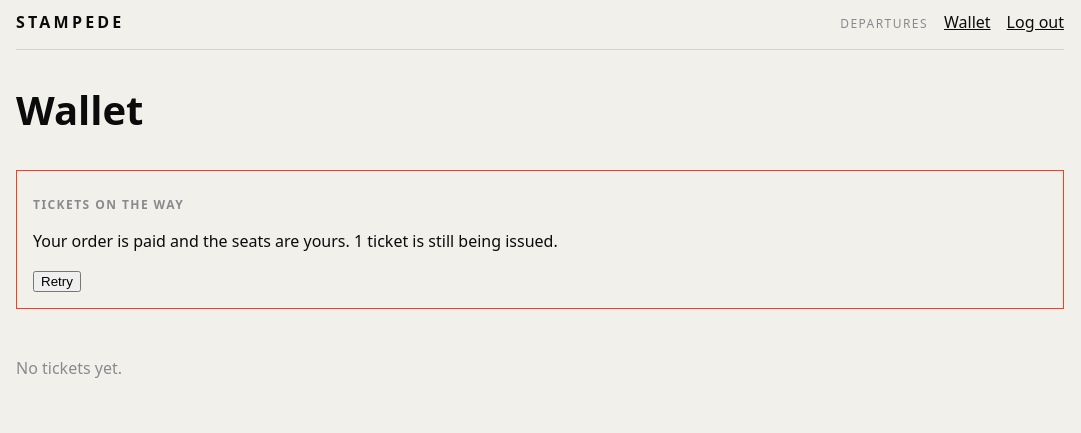
Test: WalletPage › a failed Retry shows why and keeps the banner
Step 1. Click the button "Retry" → (57, 281), box [33,270,81,292]
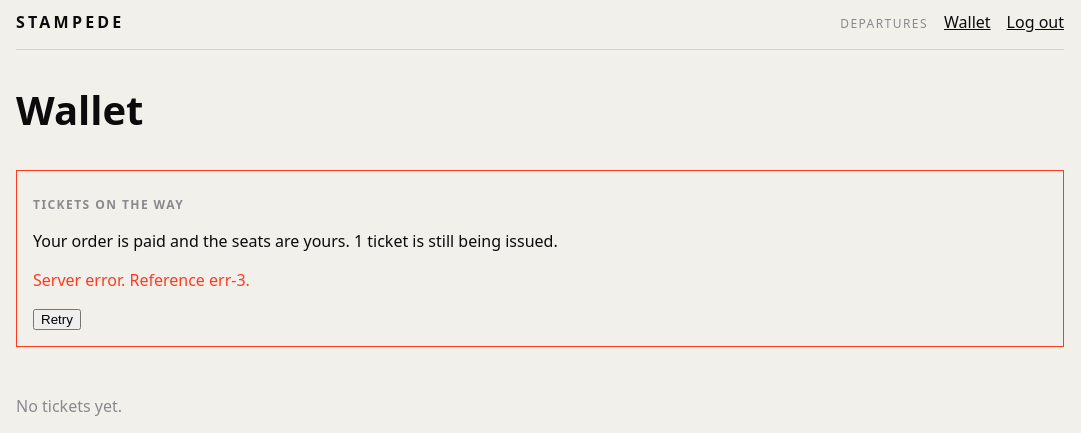
Expected: the text "1 ticket is still being issued" is shown, [33,230,558,252]
Now the message reads "Server error. Reference err-3.", box [33,268,250,290]
